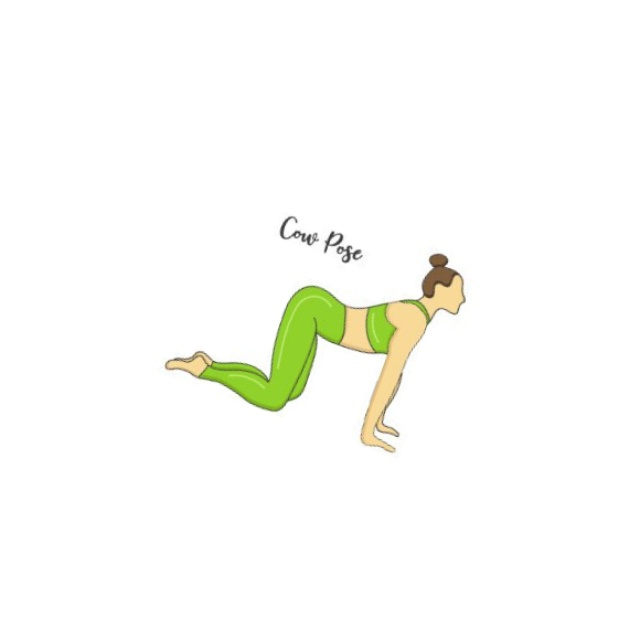Cow_Pose: (165, 254, 467, 456)
